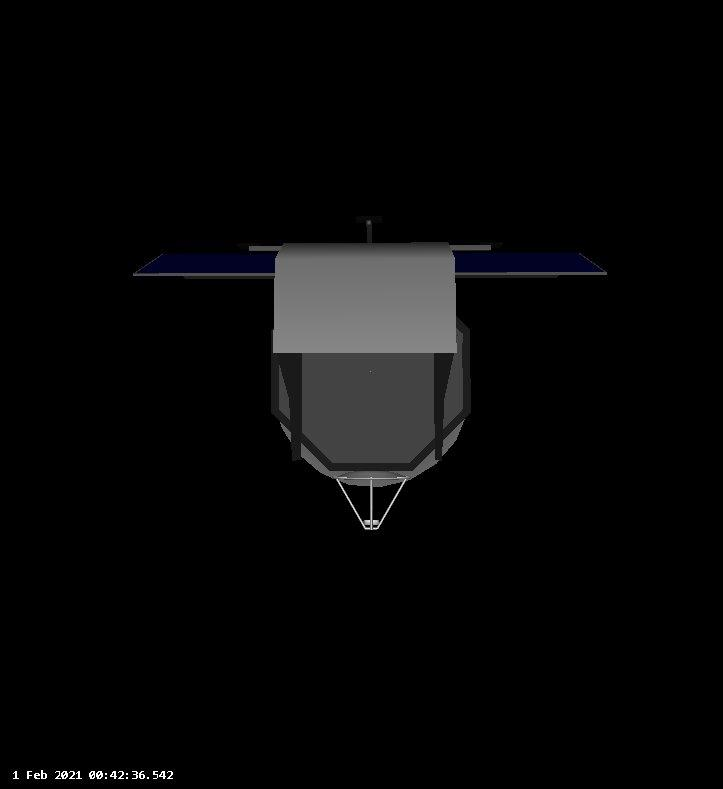antenna: (332, 467, 411, 533)
body: (264, 242, 476, 480)
solar: (127, 248, 611, 280)
